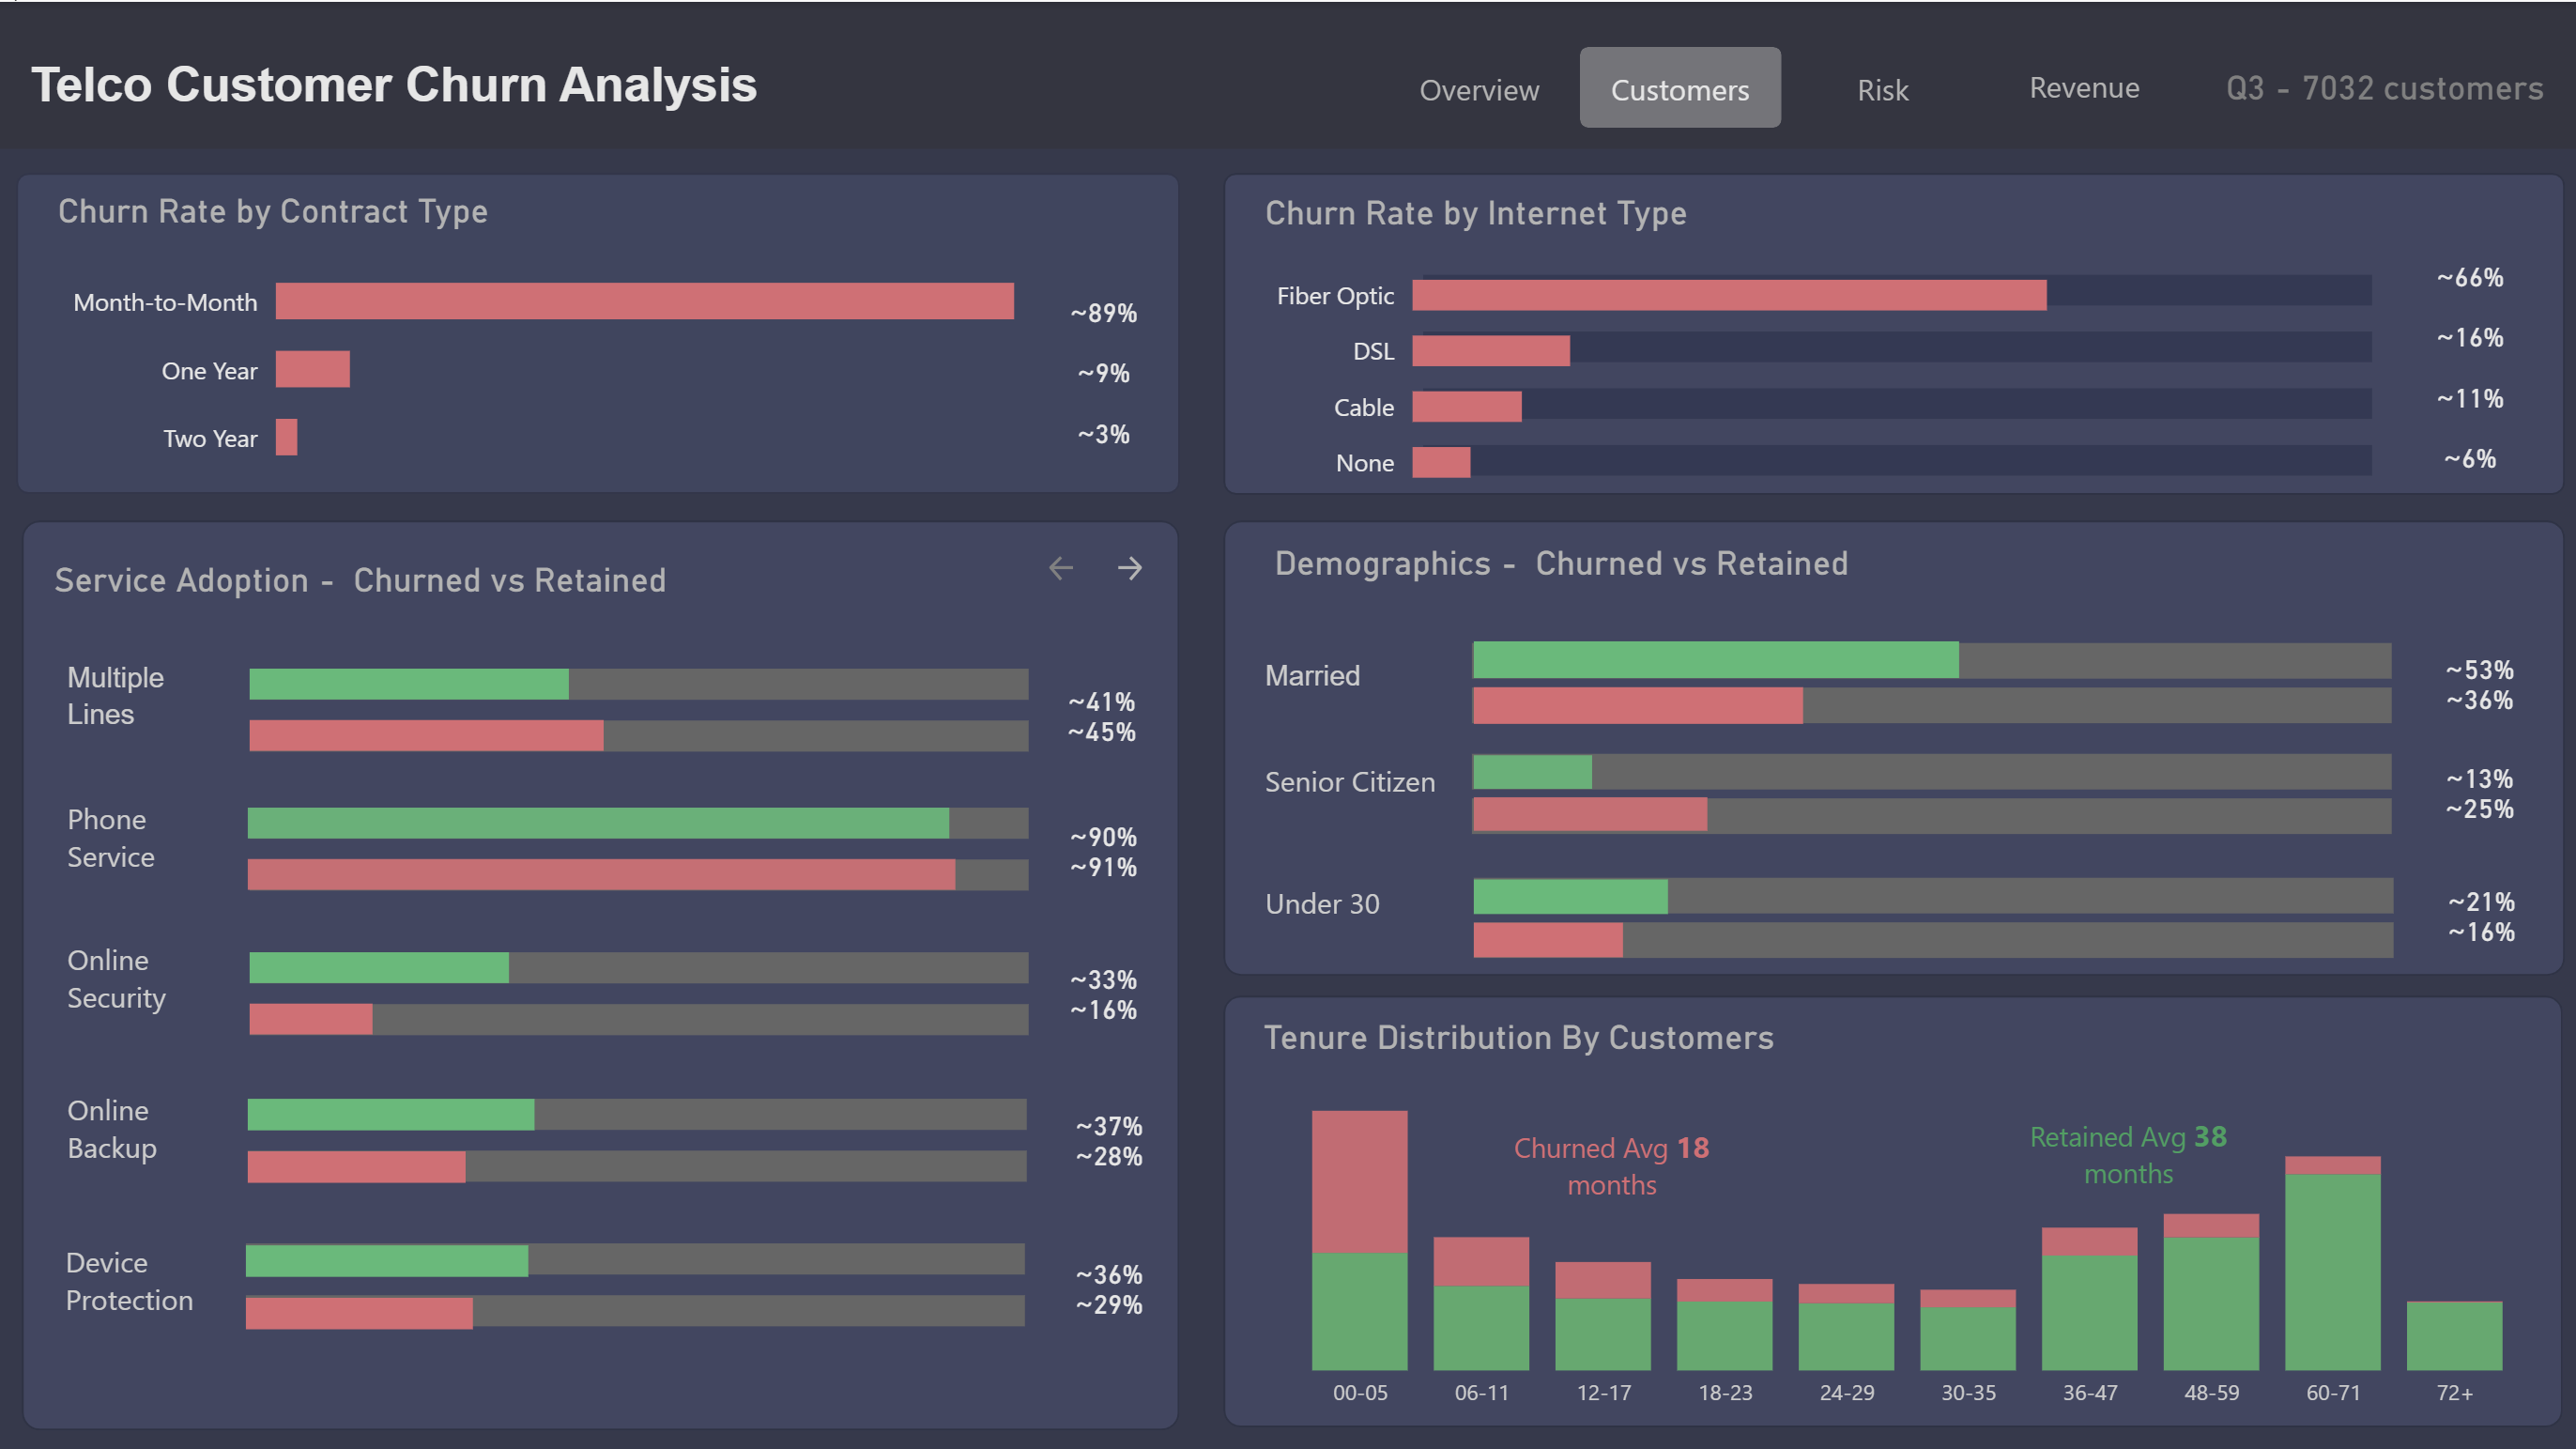

This screenshot's page, from the dashboard's own definition file:
{"tool":"powerbi","page":{"name":"Customers","canvas":[1280,720],"ordinal":1},"visuals":[{"type":"shape","box":[0,0,1280,72.9],"z":0,"group":"g14"},{"type":"group","id":"g1","title":"Contract Part","box":[8.2,83.7,577.6,161.7],"z":0},{"type":"shape","box":[8.2,84.9,577.6,159.4],"z":0,"group":"g1"},{"type":"shape","box":[606.8,84.9,665.8,159.8],"z":0,"group":"g6"},{"type":"actionButton","box":[517.1,256,41.3,50],"z":0,"group":"g3"},{"type":"shape","box":[11,256.9,574.5,451.5],"z":0,"group":"g2"},{"type":"shape","box":[606.8,257.5,665.8,226],"z":0,"group":"g12"},{"type":"card","fields":{"Values":["_calculation.Married % Side Chart"]},"box":[1189.1,312.7,82.7,53.6],"z":0,"group":"g10"},{"type":"textbox","box":[28.6,320,85,50],"z":0,"group":"g17"},{"type":"textbox","box":[622.4,372.2,99.7,42.6],"z":0,"group":"g7"},{"type":"textbox","box":[28.4,390,85.4,50.8],"z":0,"group":"g15"},{"type":"textbox","box":[622.4,432,100.8,44.9],"z":0,"group":"g4"},{"type":"textbox","box":[28.4,460,85,50],"z":0,"group":"g13"},{"type":"shape","box":[607.7,492.3,664.7,214.3],"z":0,"group":"g5"},{"type":"card","fields":{"Values":["_calculation.Online Backup % Side Chart"]},"box":[509.2,532.7,82.7,66.4],"z":0,"group":"g11"},{"type":"card","fields":{"Values":["_calculation.Senior Citizen % Side Chart"]},"box":[1189,367.3,82.7,53.6],"z":500,"group":"g7"},{"type":"card","fields":{"Values":["_calculation.Under 30 % Side Chart"]},"box":[1189.9,428.2,82.7,52.7],"z":500,"group":"g4"},{"type":"card","fields":{"Values":["_calculation.Online Security % Side Chart"]},"box":[506.4,460,82.7,66.4],"z":500,"group":"g13"},{"type":"textbox","box":[10.3,22,376.4,51.3],"z":1000,"group":"g14"},{"type":"barChart","title":"Churn Rate by Contract Type","fields":{"Y":["_calculation.Churn Contract %"],"Category":["telco telco_customer_churn_services.Contract"]},"box":[9.5,83.7,561.6,161.7],"z":1000,"group":"g1"},{"type":"barChart","title":"progress bar","fields":{"Category":["telco telco_customer_churn_services.Internet Type"],"Series":["telco telco_customer_churn.Churn Label"],"Y":["_calculation.1  progress bar"]},"box":[686.2,117.5,510.8,124.3],"z":1000,"group":"g6"},{"type":"group","id":"g2","title":"Services Part 1","box":[11,256,581.8,452.4],"z":1000,"group":"g9"},{"type":"group","id":"g3","title":"Buttons 9","box":[517.1,256,75,50],"z":1000,"group":"g2"},{"type":"actionButton","box":[550.8,256,41.3,50],"z":1000,"group":"g3"},{"type":"textbox","box":[622.7,319.5,100.8,39.4],"z":1000,"group":"g10"},{"type":"card","fields":{"Values":["_calculation.Multiple Lines % Side Chart"]},"box":[505.5,321.8,82.7,66.4],"z":1000,"group":"g17"},{"type":"clusteredBarChart","title":"100 progress","fields":{"Series":["telco telco_customer_churn.Churn Label"],"Y":["_calculation.1  progress bar"]},"box":[709.9,362,486.3,54.8],"z":1000,"group":"g7"},{"type":"clusteredBarChart","title":"100 progress","fields":{"Series":["telco telco_customer_churn.Churn Label"],"Y":["_calculation.1  progress bar"]},"box":[104,389.2,416.5,53.7],"z":1000,"group":"g15"},{"type":"group","id":"g4","title":"Group 3","box":[622.4,423,650.2,57.9],"z":1000,"group":"g12"},{"type":"clusteredBarChart","title":"100 progress","fields":{"Series":["telco telco_customer_churn.Churn Label"],"Y":["_calculation.1  progress bar"]},"box":[710.9,423,486.3,54.8],"z":1000,"group":"g4"},{"type":"clusteredBarChart","title":"100 progress","fields":{"Series":["telco telco_customer_churn.Churn Label"],"Y":["_calculation.1  progress bar"]},"box":[103.9,460.7,416.5,53.7],"z":1000,"group":"g13"},{"type":"group","id":"g5","title":"Tenure Part","box":[607.7,492.3,664.7,214.3],"z":1000},{"type":"columnChart","title":"Tenure Distribution By Customers","fields":{"Category":["telco telco_customer_churn_services.Tenure in Months Group"],"Y":["CountNonNull(telco telco_customer_churn.CustomerID)"],"Series":["telco telco_customer_churn.Churn Label"]},"box":[607.7,493.5,664.7,213.1],"z":1000,"group":"g5"},{"type":"textbox","box":[28.4,535,85.4,50],"z":1000,"group":"g11"},{"type":"textbox","box":[28.1,610,85.4,50],"z":1000,"group":"g8"},{"type":"card","fields":{"Values":["_calculation.Phone Services % Side Chart"]},"box":[506.5,389.1,82.7,66.4],"z":1500,"group":"g15"},{"type":"card","fields":{"Values":["_calculation.Device Protection  % Side Chart"]},"box":[510.1,606.3,82.7,66.4],"z":1500,"group":"g8"},{"type":"card","fields":{"Values":["_calculation.Sub Header"]},"box":[1098.6,18.6,171.4,48.6],"z":2000,"group":"g14"},{"type":"group","id":"g6","title":"Internet Type","box":[606.8,84.9,665.8,172.6],"z":2000},{"type":"barChart","title":"Churn Rate by Internet Type","fields":{"Category":["telco telco_customer_churn_services.Internet Type"],"Y":["_calculation.Internet Type %"],"Series":["telco telco_customer_churn.Churn Label"]},"box":[608.1,84.9,588.9,168.7],"z":2000,"group":"g6"},{"type":"card","fields":{"Values":["_calculation.Churn Contract % Side Chart"]},"box":[513.4,131.4,69.9,107],"z":2000,"group":"g1"},{"type":"textbox","box":[23,272,360,34.4],"z":2000,"group":"g9"},{"type":"clusteredBarChart","title":"100 progress","fields":{"Series":["telco telco_customer_churn.Churn Label"],"Y":["_calculation.1  progress bar"]},"box":[710,307,486.3,54.8],"z":2000,"group":"g10"},{"type":"clusteredBarChart","title":"100 progress","fields":{"Series":["telco telco_customer_churn.Churn Label"],"Y":["_calculation.1  progress bar"]},"box":[103.8,320.2,416.5,53.7],"z":2000,"group":"g17"},{"type":"group","id":"g7","title":"Group 2","box":[622.4,362,649.4,58.9],"z":2000,"group":"g12"},{"type":"clusteredBarChart","title":"Senior Citizen %","fields":{"Series":["telco telco_customer_churn.Churn Label"],"Y":["_calculation.Senior Citizen %"]},"box":[710.8,362.5,484.9,52.1],"z":2000,"group":"g7"},{"type":"clusteredBarChart","title":"Phone Services %","fields":{"Series":["telco telco_customer_churn.Churn Label"],"Y":["_calculation.Phone Service %"]},"box":[103.1,388.9,416.2,53.3],"z":2000,"group":"g15"},{"type":"clusteredBarChart","title":"Under 30 % %","fields":{"Series":["telco telco_customer_churn.Churn Label"],"Y":["_calculation.Under 30 %"]},"box":[710.8,424.1,484.9,53.4],"z":2000,"group":"g4"},{"type":"clusteredBarChart","title":"Online Security %","fields":{"Series":["telco telco_customer_churn.Churn Label"],"Y":["_calculation.Online Security %"]},"box":[104.1,461.3,416.2,53.3],"z":2000,"group":"g13"},{"type":"clusteredBarChart","title":"100 progress","fields":{"Series":["telco telco_customer_churn.Churn Label"],"Y":["_calculation.1  progress bar"]},"box":[102.6,533.2,416.5,53.7],"z":2000,"group":"g11"},{"type":"enlightenDataStoryDDFB78A6143E42CFAFBC50CCF18D978D","fields":{"measure":["_calculation.Avg Tenure Churned"]},"box":[731,551.9,140,52.9],"z":2000,"group":"g5"},{"type":"group","id":"g8","title":"Group 5","box":[28.1,605.7,564.7,67],"z":2000,"group":"g2"},{"type":"clusteredBarChart","title":"100 progress","fields":{"Series":["telco telco_customer_churn.Churn Label"],"Y":["_calculation.1  progress bar"]},"box":[102.2,605.7,416.5,53.7],"z":2000,"group":"g8"},{"type":"actionButton","title":"Button risk","box":[885,22.8,100,40],"z":2125,"group":"g16"},{"type":"actionButton","title":"Button revenue","box":[985,21.7,100.4,39.4],"z":2187,"group":"g16"},{"type":"actionButton","title":"Button overview","box":[685,22.8,100,40],"z":2250,"group":"g16"},{"type":"actionButton","title":"Button customer","box":[785,22.8,100,40],"z":2500,"group":"g16"},{"type":"card","fields":{"Values":["_calculation.Churned Internet Type % Side Chart"]},"box":[1179.6,106.6,91.7,150.9],"z":3000,"group":"g6"},{"type":"group","id":"g9","title":"Services","box":[10.5,256,582.3,452.4],"z":3000},{"type":"group","id":"g10","title":"Group 1","box":[622.7,305.7,649.1,60.6],"z":3000,"group":"g12"},{"type":"clusteredBarChart","title":"Married %","fields":{"Series":["telco telco_customer_churn.Churn Label"],"Y":["_calculation.Married %"]},"box":[710.8,305.7,486.3,56.2],"z":3000,"group":"g10"},{"type":"clusteredBarChart","title":"Multiple Line %","fields":{"Series":["telco telco_customer_churn.Churn Label"],"Y":["_calculation.Multiple Lines %"]},"box":[104.1,320,416.2,53.3],"z":3000,"group":"g17"},{"type":"group","id":"g11","title":"Group 4","box":[28.4,532.7,563.5,66.4],"z":3000,"group":"g2"},{"type":"clusteredBarChart","title":"Online Backup %","fields":{"Series":["telco telco_customer_churn.Churn Label"],"Y":["_calculation.Online Backup %"]},"box":[103.1,533.8,416.2,54.3],"z":3000,"group":"g11"},{"type":"enlightenDataStoryDDFB78A6143E42CFAFBC50CCF18D978D","fields":{"measure":["_calculation.Avg Tenure Retained"]},"box":[988.1,546.1,138.6,52.9],"z":3000,"group":"g5"},{"type":"clusteredBarChart","title":"Device Protection %","fields":{"Series":["telco telco_customer_churn.Churn Label"],"Y":["_calculation.Device Protection %"]},"box":[102.3,606.3,416.2,54.3],"z":3000,"group":"g8"},{"type":"group","id":"g12","title":"Demographics","box":[606.8,257.5,665.9,226],"z":4000},{"type":"textbox","box":[627,263.9,364.7,31.7],"z":4000,"group":"g12"},{"type":"group","id":"g13","title":"Group 3","box":[28.4,460,560.8,66.4],"z":4000,"group":"g2"},{"type":"group","id":"g14","title":"Header","box":[0,0,1280,73.2],"z":5000},{"type":"group","id":"g15","title":"Group 2","box":[28.4,388.9,560.8,66.6],"z":5000,"group":"g2"},{"type":"group","id":"g16","title":"Buttons","box":[685,21.7,400.4,41.1],"z":5001,"group":"g14"},{"type":"group","id":"g17","title":"Group 1","box":[28.6,320,559.7,68.2],"z":6000,"group":"g2"}]}

Visuals, with their boxes in screenshot pixels (x1, y1, x2, y2), scaled from the page's 1280x720 canvas onto the 2576x1449 screenshot:
shape: crop(0, 0, 2575, 146)
"Contract Part" group: crop(17, 168, 1179, 494)
shape: crop(17, 171, 1179, 492)
shape: crop(1221, 171, 2561, 492)
actionButton: crop(1041, 516, 1124, 616)
shape: crop(23, 517, 1178, 1426)
shape: crop(1221, 518, 2561, 973)
card - _calculation.Married % Side Chart: crop(2393, 629, 2559, 737)
textbox: crop(57, 644, 229, 745)
textbox: crop(1252, 749, 1453, 835)
textbox: crop(57, 785, 229, 887)
textbox: crop(1252, 870, 1455, 960)
textbox: crop(57, 926, 228, 1026)
shape: crop(1223, 991, 2561, 1422)
card - _calculation.Online Backup % Side Chart: crop(1025, 1072, 1191, 1206)
card - _calculation.Senior Citizen % Side Chart: crop(2393, 739, 2559, 847)
card - _calculation.Under 30 % Side Chart: crop(2395, 862, 2561, 968)
card - _calculation.Online Security % Side Chart: crop(1020, 926, 1186, 1059)
textbox: crop(21, 44, 778, 147)
"Churn Rate by Contract Type" barChart: crop(19, 168, 1149, 494)
"progress bar" barChart: crop(1381, 237, 2409, 486)
"Services Part 1" group: crop(23, 516, 1193, 1426)
"Buttons 9" group: crop(1041, 516, 1191, 616)
actionButton: crop(1109, 516, 1191, 616)
textbox: crop(1253, 643, 1456, 722)
card - _calculation.Multiple Lines % Side Chart: crop(1018, 648, 1184, 781)
"100 progress" clusteredBarChart: crop(1429, 729, 2407, 839)
"100 progress" clusteredBarChart: crop(209, 783, 1048, 891)
"Group 3" group: crop(1252, 852, 2561, 968)
"100 progress" clusteredBarChart: crop(1431, 852, 2409, 962)
"100 progress" clusteredBarChart: crop(209, 927, 1048, 1035)
"Tenure Part" group: crop(1223, 991, 2561, 1422)
"Tenure Distribution By Customers" columnChart: crop(1223, 994, 2561, 1422)
textbox: crop(57, 1077, 229, 1178)
textbox: crop(56, 1227, 228, 1328)
card - _calculation.Phone Services % Side Chart: crop(1020, 783, 1186, 917)
card - _calculation.Device Protection  % Side Chart: crop(1027, 1220, 1193, 1354)
card - _calculation.Sub Header: crop(2211, 38, 2556, 135)
"Internet Type" group: crop(1221, 171, 2561, 518)
"Churn Rate by Internet Type" barChart: crop(1224, 171, 2409, 510)
card - _calculation.Churn Contract % Side Chart: crop(1034, 265, 1173, 480)
textbox: crop(46, 547, 771, 617)
"100 progress" clusteredBarChart: crop(1429, 618, 2408, 728)
"100 progress" clusteredBarChart: crop(209, 644, 1047, 752)
"Group 2" group: crop(1252, 729, 2559, 847)
"Senior Citizen %" clusteredBarChart: crop(1431, 730, 2406, 835)
"Phone Services %" clusteredBarChart: crop(207, 782, 1045, 890)
"Under 30 % %" clusteredBarChart: crop(1431, 854, 2406, 961)
"Online Security %" clusteredBarChart: crop(209, 929, 1047, 1036)
"100 progress" clusteredBarChart: crop(207, 1073, 1045, 1181)
enlightenDataStoryDDFB78A6143E42CFAFBC50CCF18D978D - _calculation.Avg Tenure Churned: crop(1471, 1111, 1753, 1217)
"Group 5" group: crop(56, 1219, 1193, 1354)
"100 progress" clusteredBarChart: crop(206, 1219, 1044, 1327)
"Button risk" actionButton: crop(1781, 46, 1983, 127)
"Button revenue" actionButton: crop(1983, 44, 2185, 123)
"Button overview" actionButton: crop(1378, 46, 1580, 127)
"Button customer" actionButton: crop(1580, 46, 1781, 127)
card - _calculation.Churned Internet Type % Side Chart: crop(2374, 214, 2558, 518)
"Services" group: crop(22, 516, 1193, 1426)
"Group 1" group: crop(1253, 615, 2559, 737)
"Married %" clusteredBarChart: crop(1431, 615, 2409, 729)
"Multiple Line %" clusteredBarChart: crop(209, 644, 1047, 751)
"Group 4" group: crop(57, 1072, 1191, 1206)
"Online Backup %" clusteredBarChart: crop(207, 1074, 1045, 1183)
enlightenDataStoryDDFB78A6143E42CFAFBC50CCF18D978D - _calculation.Avg Tenure Retained: crop(1988, 1099, 2267, 1206)
"Device Protection %" clusteredBarChart: crop(206, 1220, 1044, 1330)
"Demographics" group: crop(1221, 518, 2561, 973)
textbox: crop(1262, 532, 1996, 594)
"Group 3" group: crop(57, 926, 1186, 1059)
"Header" group: crop(0, 0, 2575, 147)
"Group 2" group: crop(57, 782, 1186, 917)
"Buttons" group: crop(1378, 44, 2185, 127)
"Group 1" group: crop(57, 644, 1184, 781)
